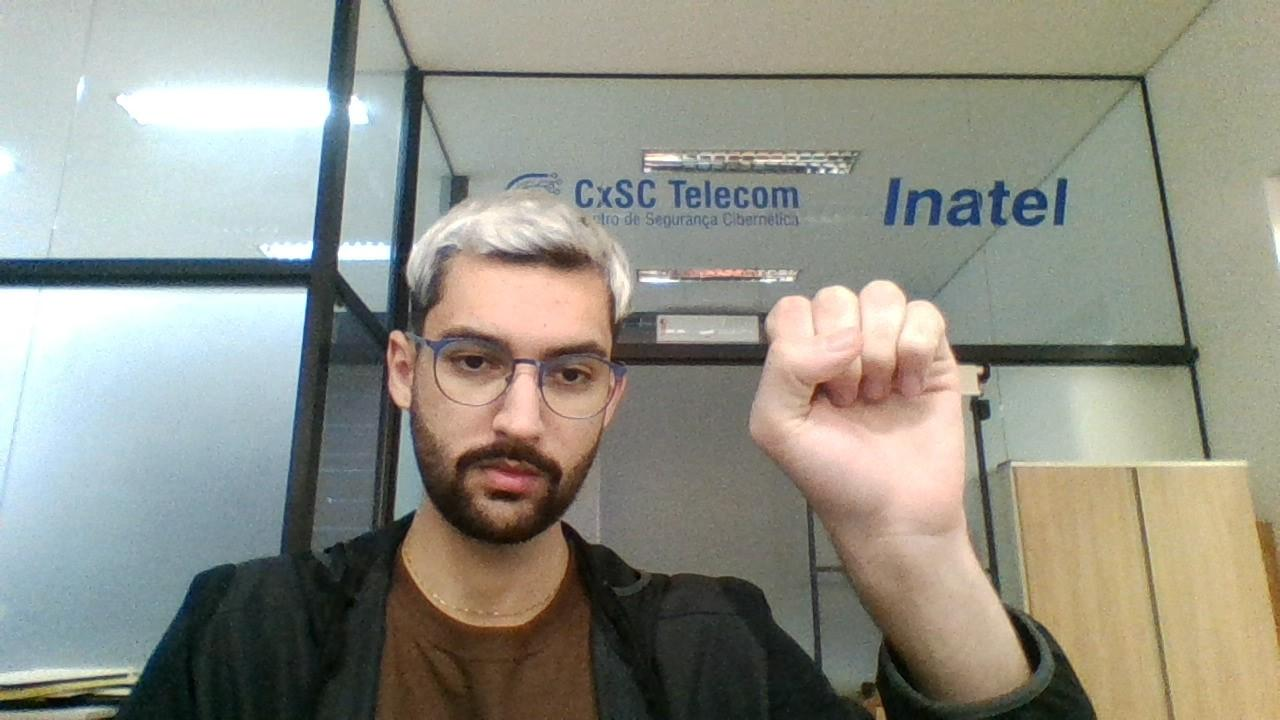S: (744, 280, 986, 542)
